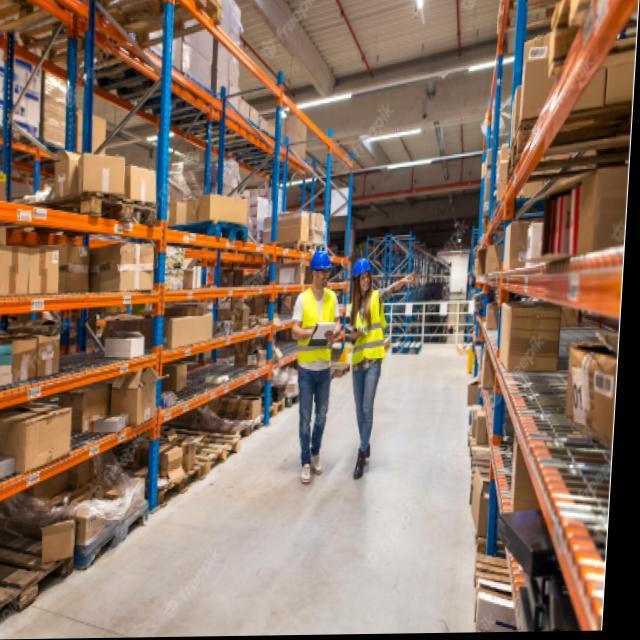hard_hat: (307, 248, 334, 289), (348, 257, 375, 296)
shoes: (352, 443, 373, 481)
vest: (293, 288, 341, 366), (345, 289, 390, 366)
